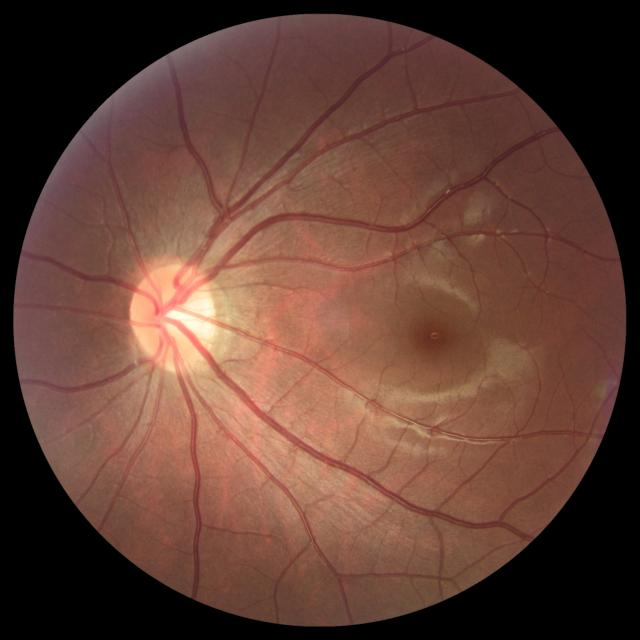OC: (152, 293, 205, 338)
OD: (132, 260, 219, 373)
